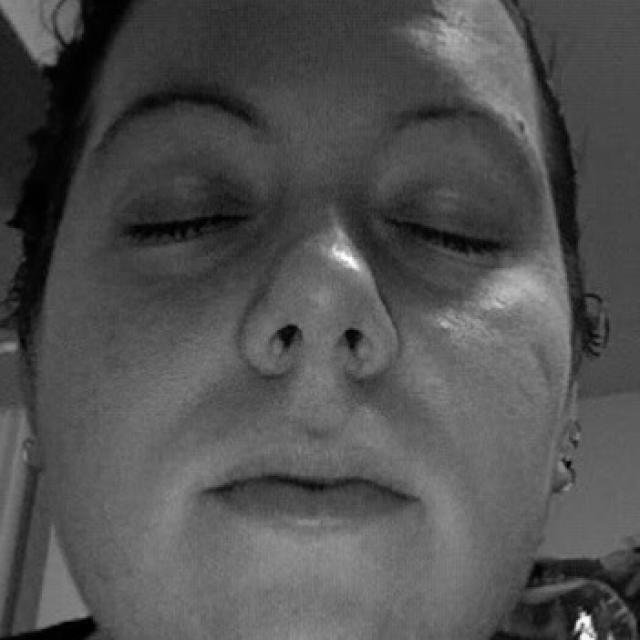real: (69, 2, 531, 614), (111, 160, 540, 274)
